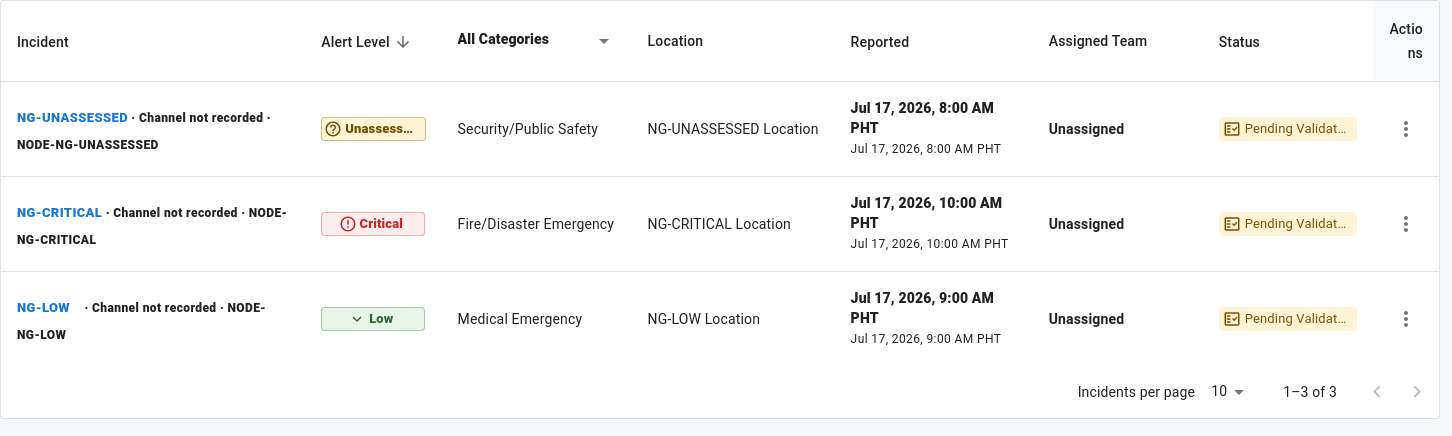
it: IncidentTable header behavior › filters from the Category header without changing alert-level sorting
Press the mouse on the dropdown named "Filter incidents by emergency category" at (503, 39), box x1=458 y1=31 x2=549 y2=47
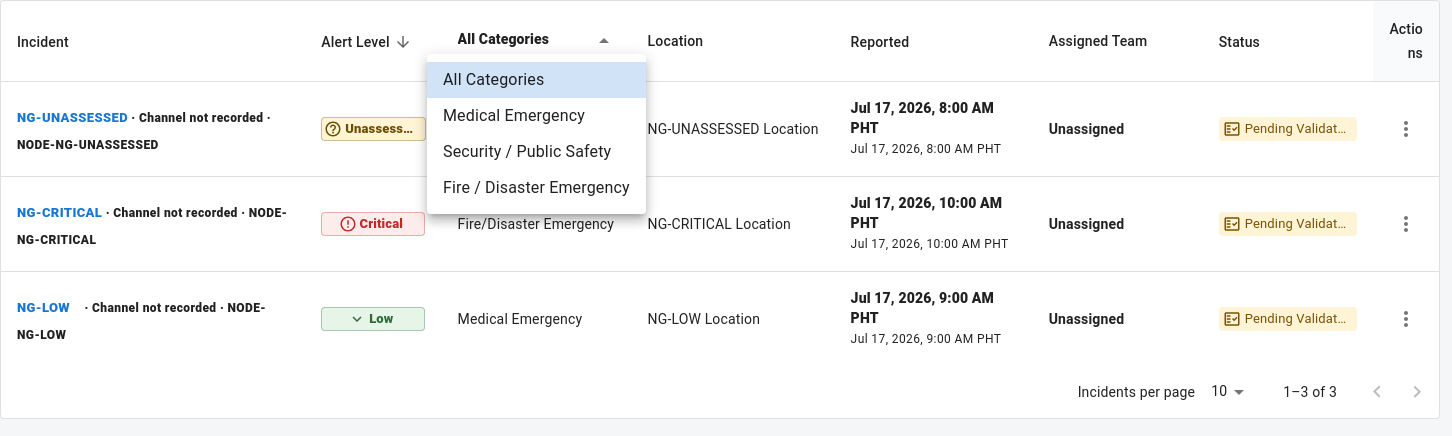
Click the option "Medical Emergency". click: (514, 116)
box: x1=443 y1=106 x2=585 y2=125
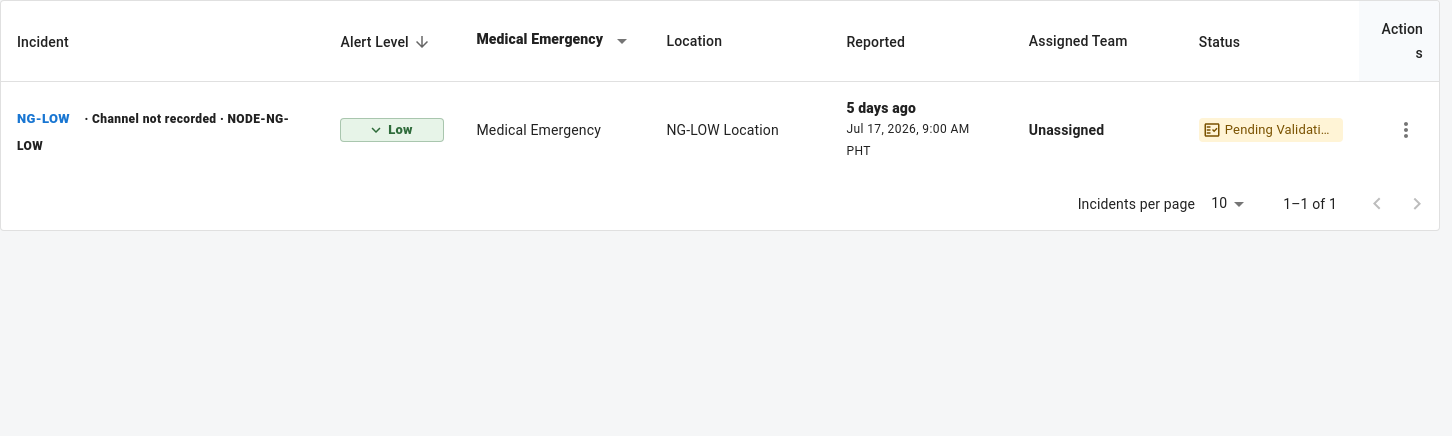
Result: the text "NG-LOW" is shown 2 times
Result: the button "NG-CRITICAL" is gone
Result: the button "NG-UNASSESSED" is gone
